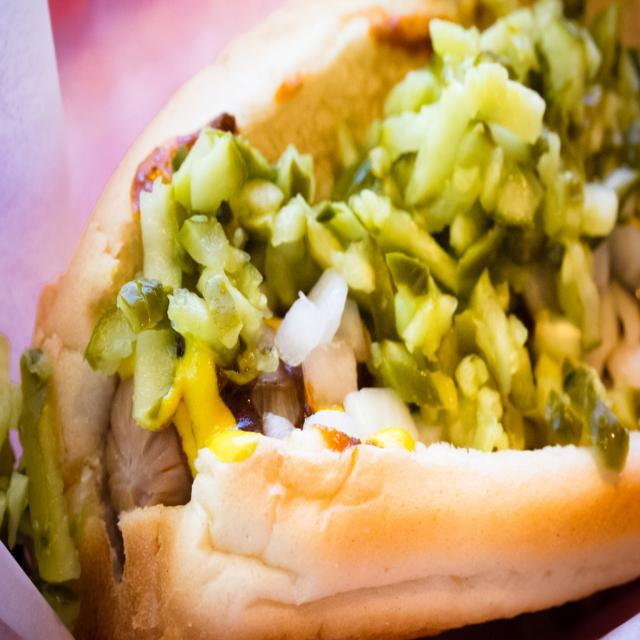Hot dog: (88, 18, 598, 636)
